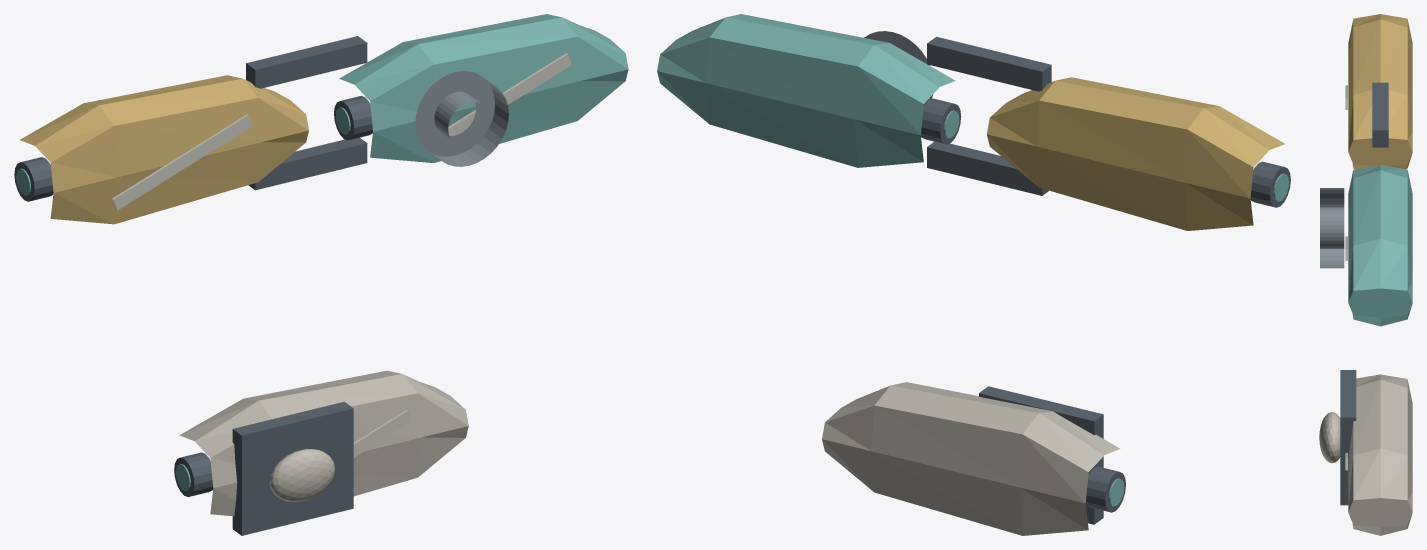
Rendered from 06_towline_table.glb.
The picture shows the model from 3 angles, left to right: view 1: azimuth 30°, elevation 25°; view 2: azimuth 150°, elevation 25°; view 3: azimuth 270°, elevation 25°; orthographic projection. The views are drawn at different scales.
Parts seen in each view (by area): view 1: HULL_001, HULL_007, HULL_012, part_016, part_011, part_006, part_005, part_017, part_002, part_008, part_003, part_009 (+2 smaller); view 2: HULL_007, HULL_001, HULL_012, part_006, part_005, part_016, part_003, part_009, part_014, part_011; view 3: HULL_007, HULL_012, HULL_001, part_011, part_016, part_006, part_017.
Part boxes in pixels (x1,y1,x2,y2): HULL_001: (20,75,308,224); HULL_007: (339,14,628,162); HULL_012: (179,370,468,516); part_016: (232,401,353,535); part_011: (415,71,508,166); part_006: (246,36,367,88); part_005: (248,137,367,190); part_017: (269,449,334,501); part_002: (112,114,252,210); part_008: (448,53,571,135); part_003: (14,157,53,201); part_009: (334,96,372,140); HULL_007: (657,14,955,167); HULL_001: (986,77,1284,230); HULL_012: (822,382,1120,535); part_006: (927,36,1051,91); part_005: (927,141,1048,195); part_016: (979,386,1103,524); part_003: (1250,161,1290,207); part_009: (921,98,961,144); part_014: (1085,466,1125,512); part_011: (864,31,932,106); HULL_007: (1348,165,1412,326); HULL_012: (1348,374,1412,535); HULL_001: (1348,14,1412,168); part_011: (1320,188,1344,268); part_016: (1340,370,1356,505); part_006: (1372,82,1388,147); part_017: (1319,412,1340,463).
Bounding box in the file's own units: 36.75 × 27.1 × 5.8.
